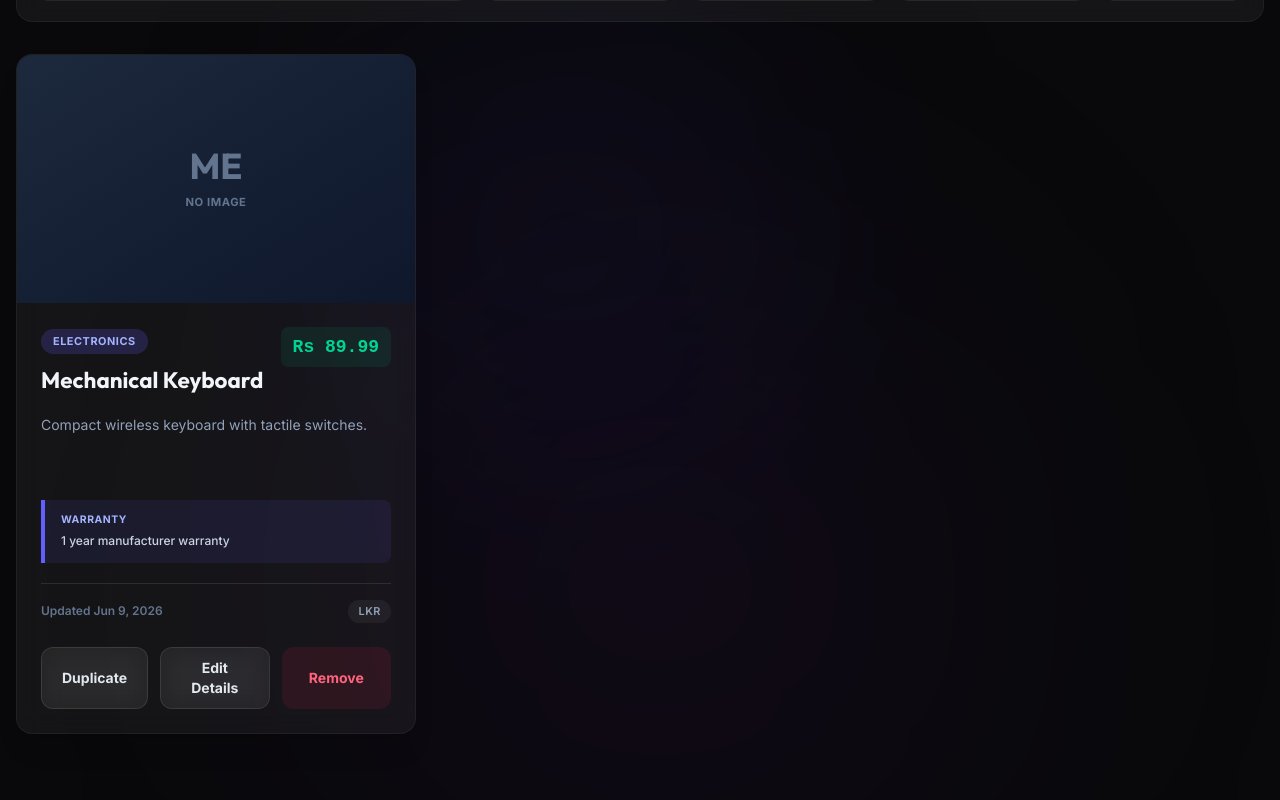
Test: App › duplicates an existing item into a new draft
(page scrolled)
Expected: the heading "Mechanical Keyboard" is shown, [41,366,263,394]
Click the button "Duplicate" at (95, 678), box [41,647,148,709]
(page scrolled)
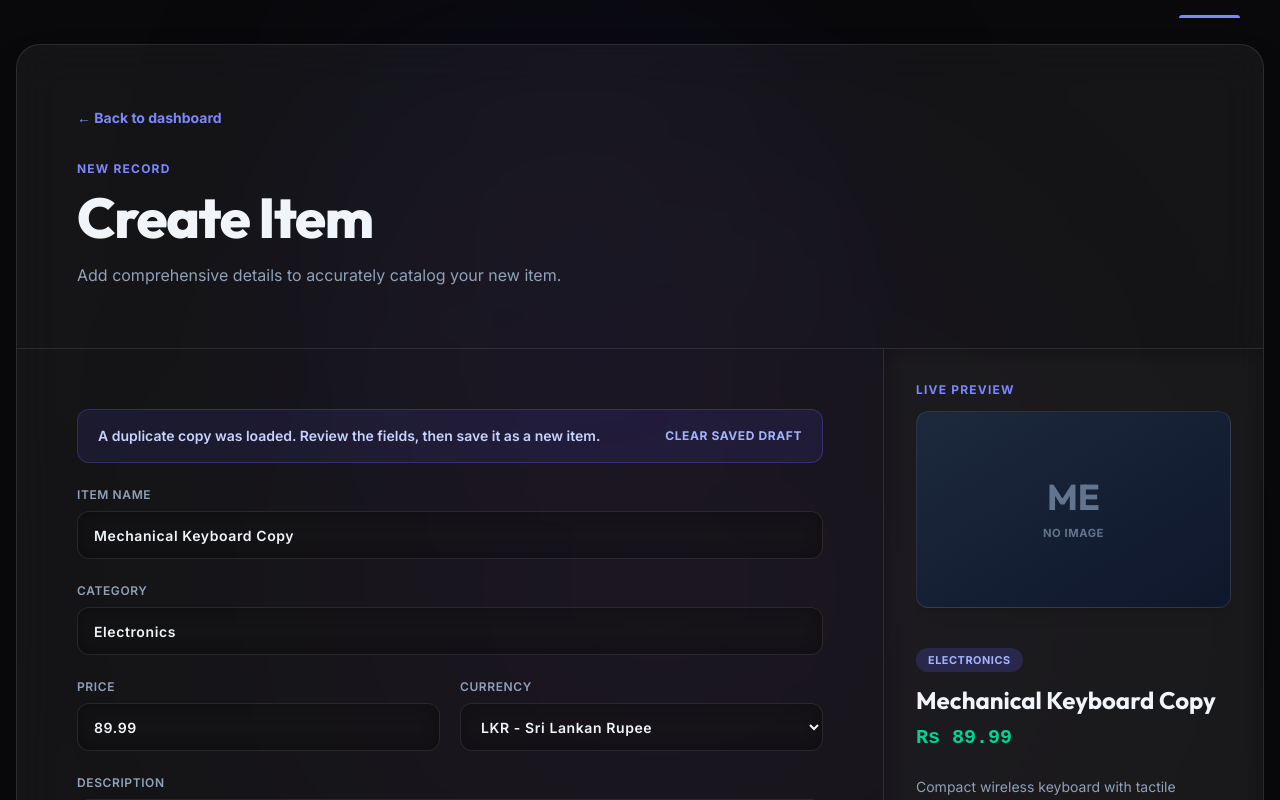
Now the heading "Create Item" is shown, box [77,182,372,253]
Now the field labelled "Item name" holds "Mechanical Keyboard Copy", box [77,511,823,559]
Now the text "A duplicate copy was loaded. Review the fields, then save it as a new item." is shown, box [98,426,600,446]
